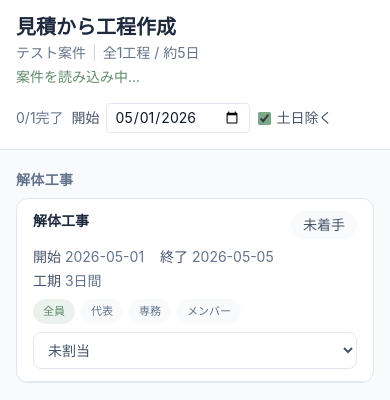
Scenario: ScheduleFromEstimatePage — 土日スキップ › チェックを外すと土日が含まれた終了日になる
Click the checkbox with test id "skip-weekends-checkbox": (264, 118) x1=258 y1=112 x2=271 y2=124
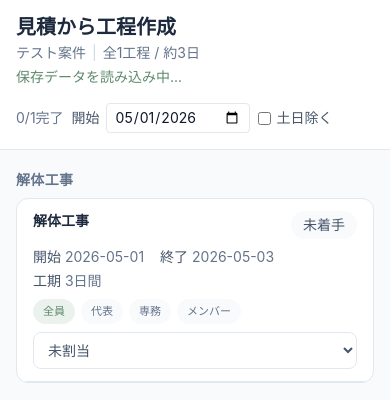
Expected: the text "2026-05-03" is shown, x1=192 y1=248 x2=274 y2=265
